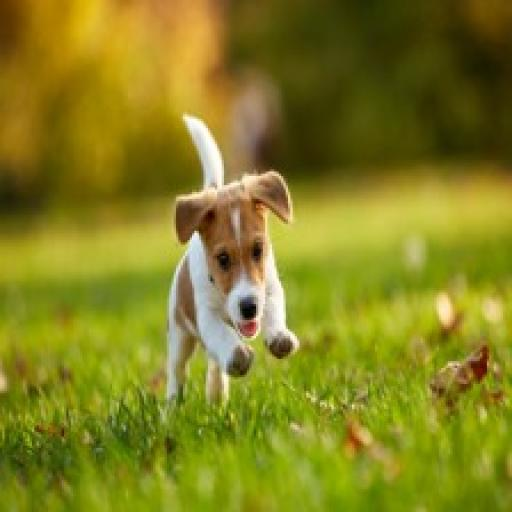dog: (157, 102, 312, 413)
